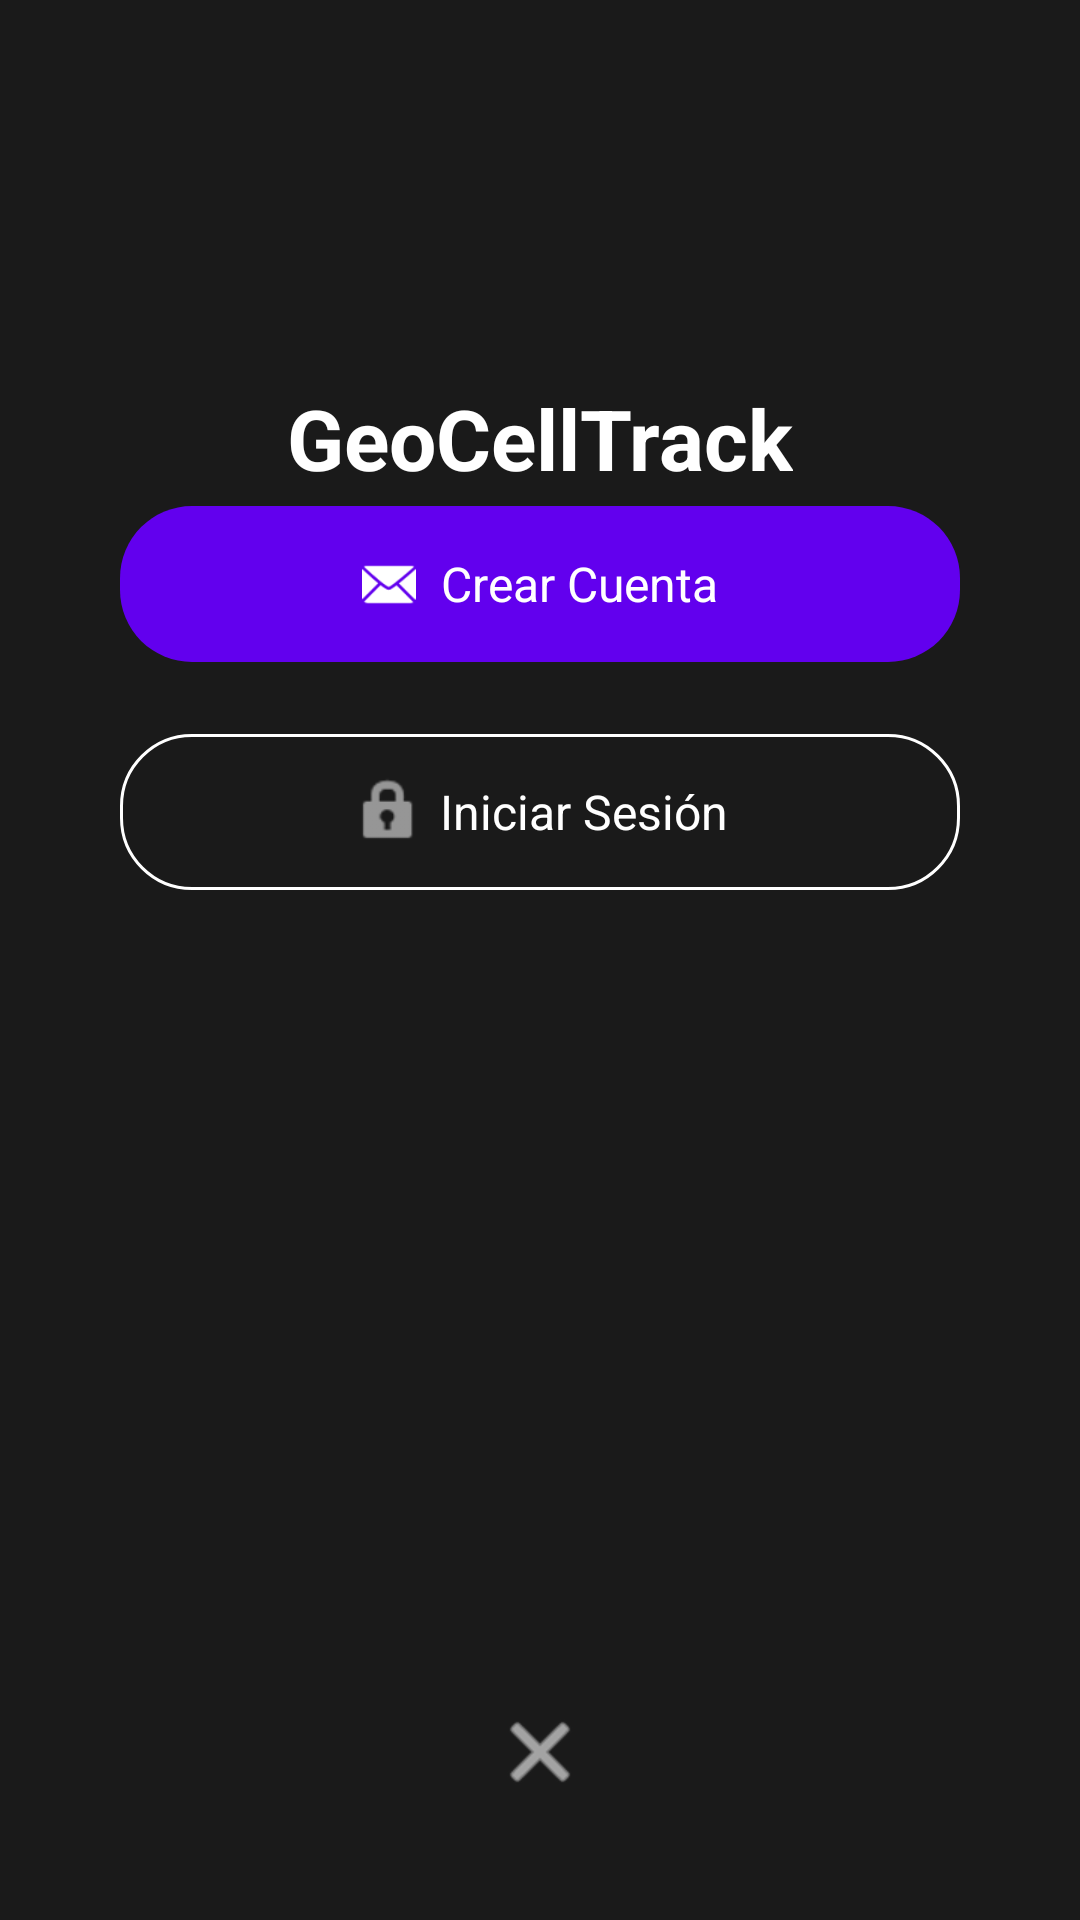

Icon click points for this 1080 × 1920 phone screenshot, format point (x, y):
Salir: point (540, 1752)
